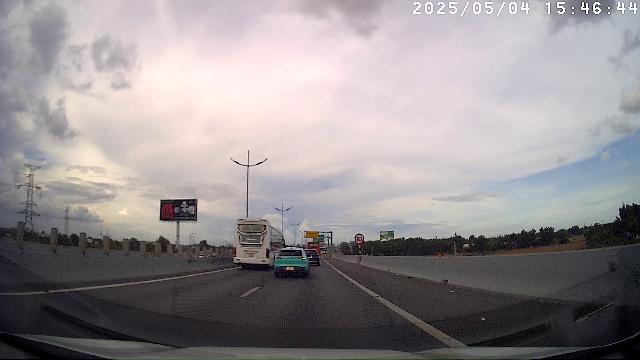127-toc-do-toi-da-60: (354, 234, 364, 244)
